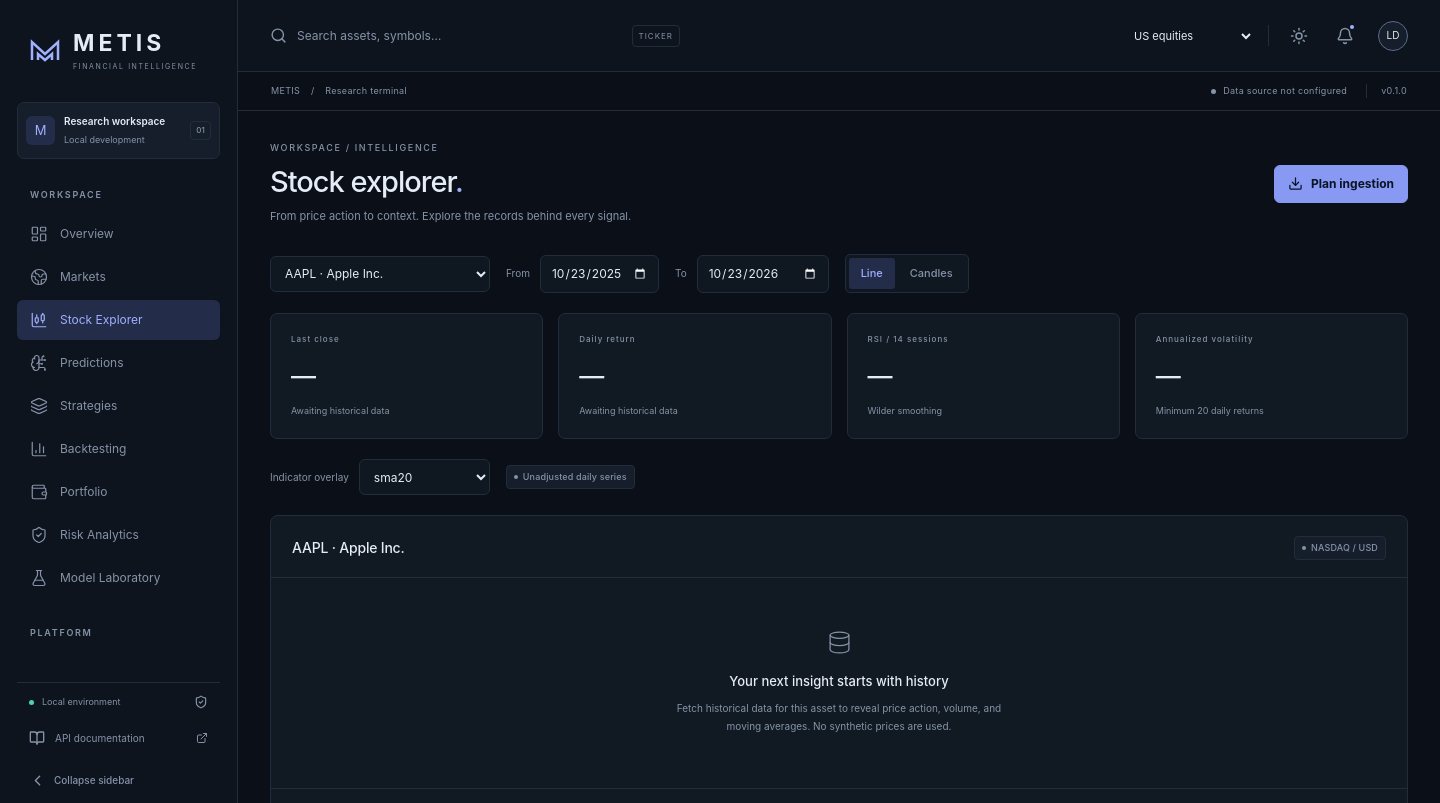
Test: Phase 2 deliberate actions › ingestion preview sends only a dry-run request
The width and height of the screenshot is (1440, 803).
Click the button "Plan ingestion" at (1341, 184), box [1274,165,1408,203]
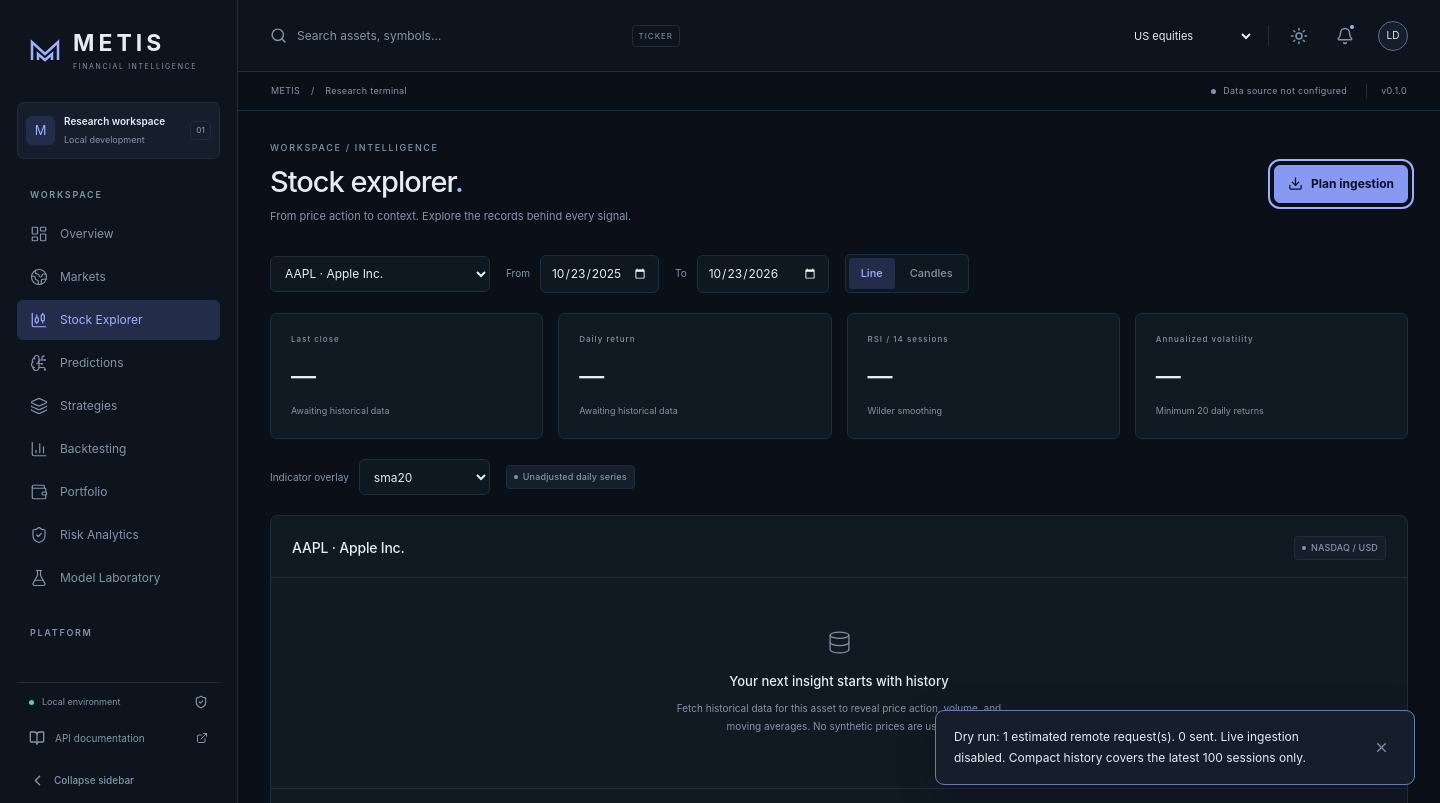
expect the text "Dry run: 1 estimated remote request" is shown: met, box [954,729,1306,765]
